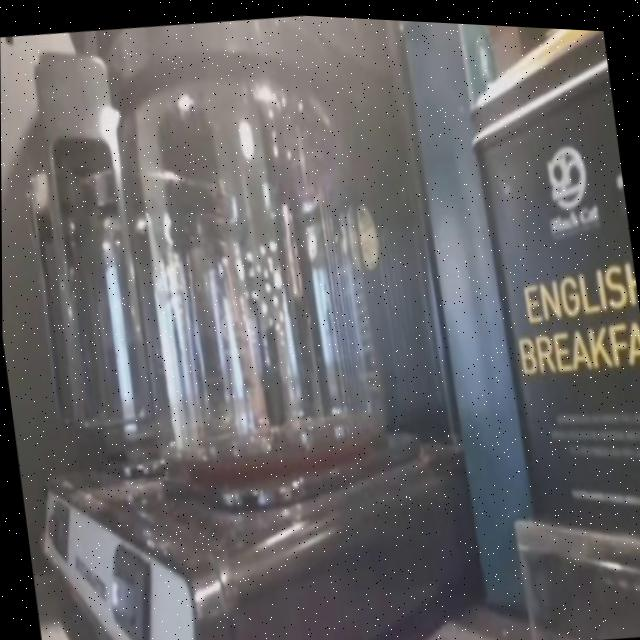nocoffee: (114, 90, 397, 479), (68, 231, 160, 464)
